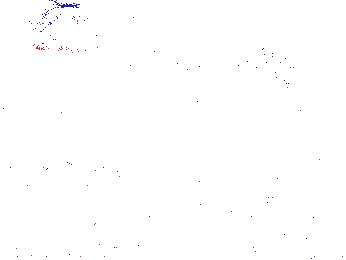moon jellyfish: (171, 1, 283, 86), (230, 52, 320, 118), (78, 1, 170, 57), (32, 6, 103, 53)
